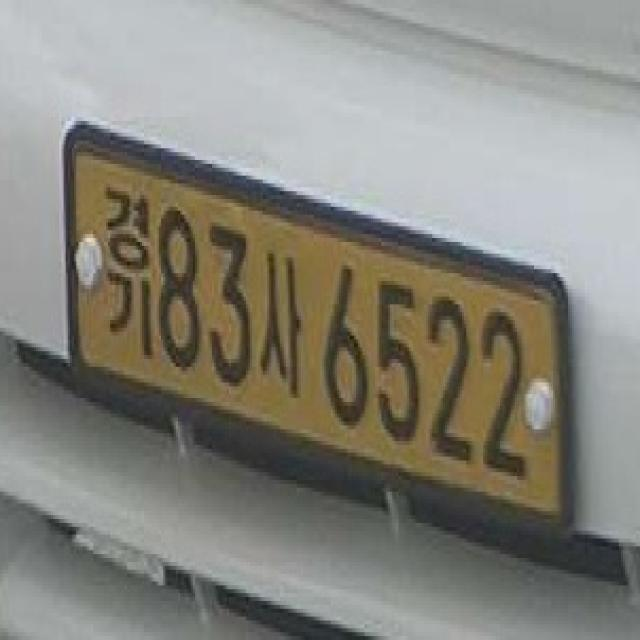plat: (61, 117, 578, 554)
